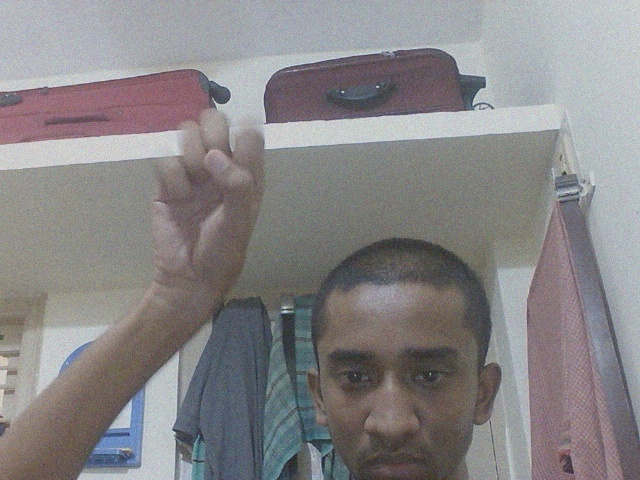hand: (144, 107, 272, 312)
